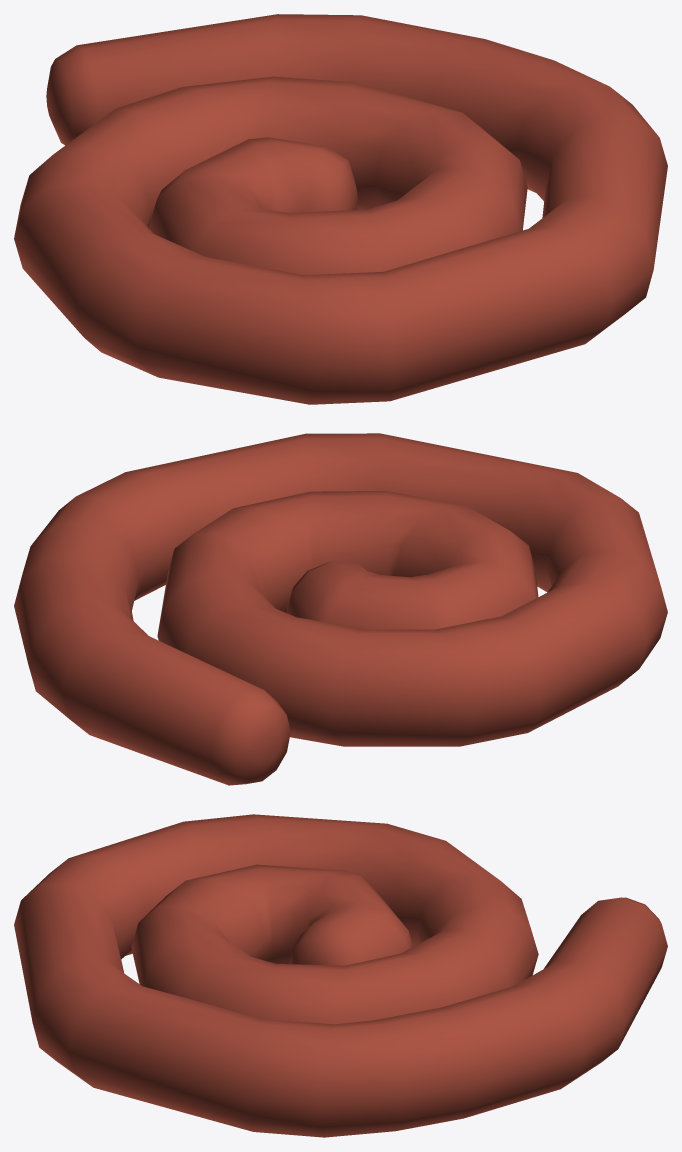
The model's file is Sausage_ring.002.fbx.
3 views of the same model, one above another, from view 1: azimuth 30°, elevation 25°; view 2: azimuth 150°, elevation 25°; view 3: azimuth 270°, elevation 25° (orthographic). The views are drawn at different scales.
Parts seen in each view (by area): view 1: Sausage_ring.002; view 2: Sausage_ring.002; view 3: Sausage_ring.002.
Part boxes in pixels (x1,y1,x2,y2): Sausage_ring.002: (14, 14, 667, 404); Sausage_ring.002: (14, 433, 667, 785); Sausage_ring.002: (14, 814, 667, 1137).
Size of the model in its own units: 123 by 132 by 22.87.
